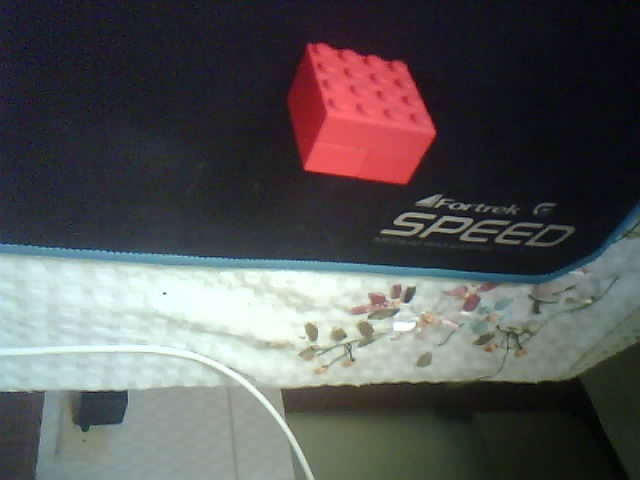lego: (284, 41, 437, 186)
